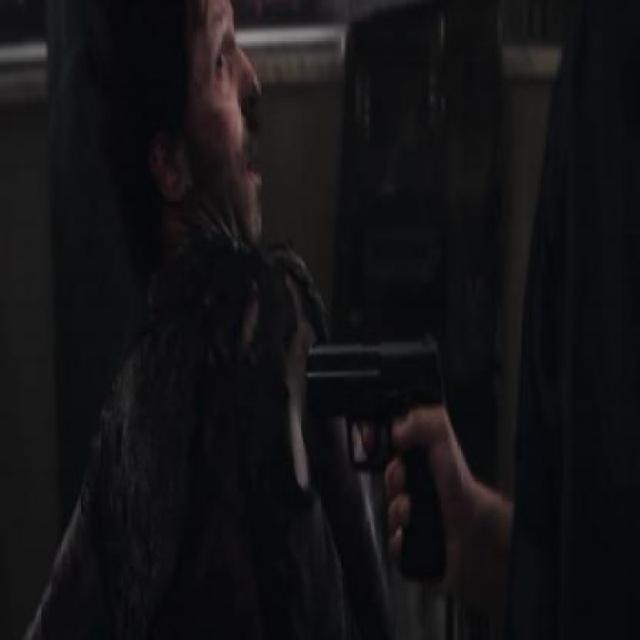gun: (298, 303, 457, 632)
